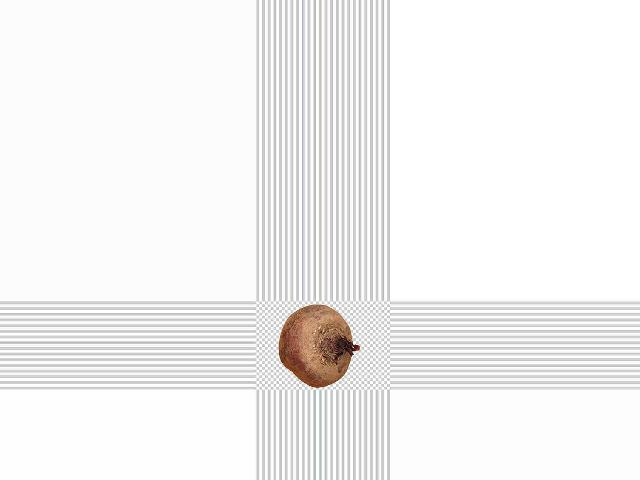beet: (279, 305, 360, 387)
